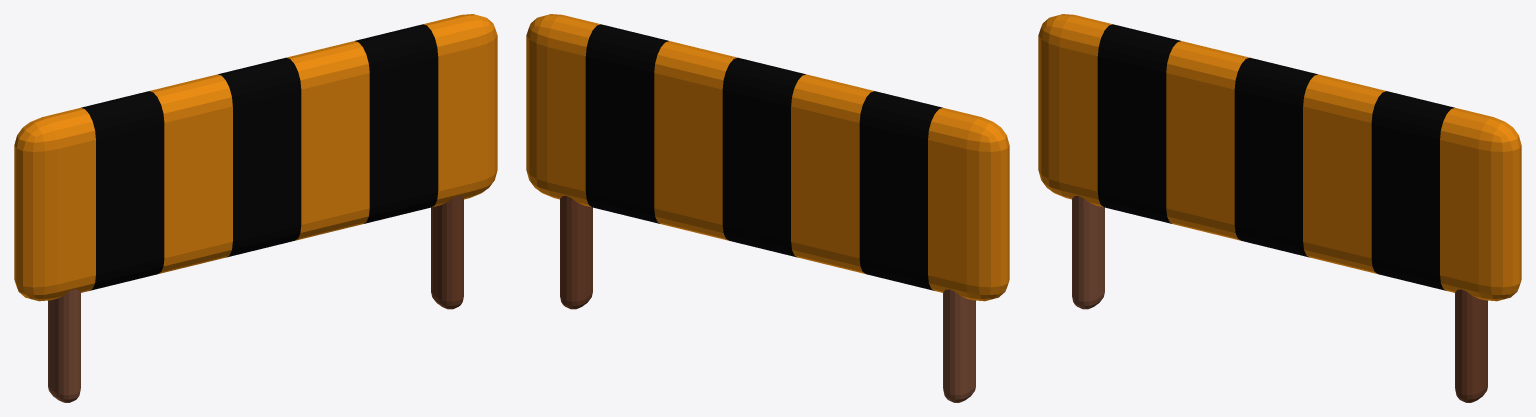
File: SlideBarrier.fbx
The picture shows the model from 3 angles, left to right: view 1: azimuth 30°, elevation 25°; view 2: azimuth 150°, elevation 25°; view 3: azimuth 330°, elevation 25°; orthographic projection.
Visible parts, largest first — view 1: SlideBar_Top, SlideBar_Leg_Left, SlideBar_Leg_Right; view 2: SlideBar_Top, SlideBar_Leg_Left, SlideBar_Leg_Right; view 3: SlideBar_Top, SlideBar_Leg_Right, SlideBar_Leg_Left.
Part boxes in pixels (x1=…): SlideBar_Top: x1=14, y1=14, x2=497, y2=301; SlideBar_Leg_Left: x1=48, y1=289, x2=80, y2=402; SlideBar_Leg_Right: x1=431, y1=196, x2=463, y2=309; SlideBar_Top: x1=526, y1=14, x2=1009, y2=301; SlideBar_Leg_Left: x1=943, y1=289, x2=975, y2=402; SlideBar_Leg_Right: x1=560, y1=196, x2=592, y2=309; SlideBar_Top: x1=1038, y1=14, x2=1521, y2=301; SlideBar_Leg_Right: x1=1455, y1=289, x2=1487, y2=402; SlideBar_Leg_Left: x1=1072, y1=196, x2=1104, y2=309.
Bounding box in the file's own units: 500 × 285 × 40.
